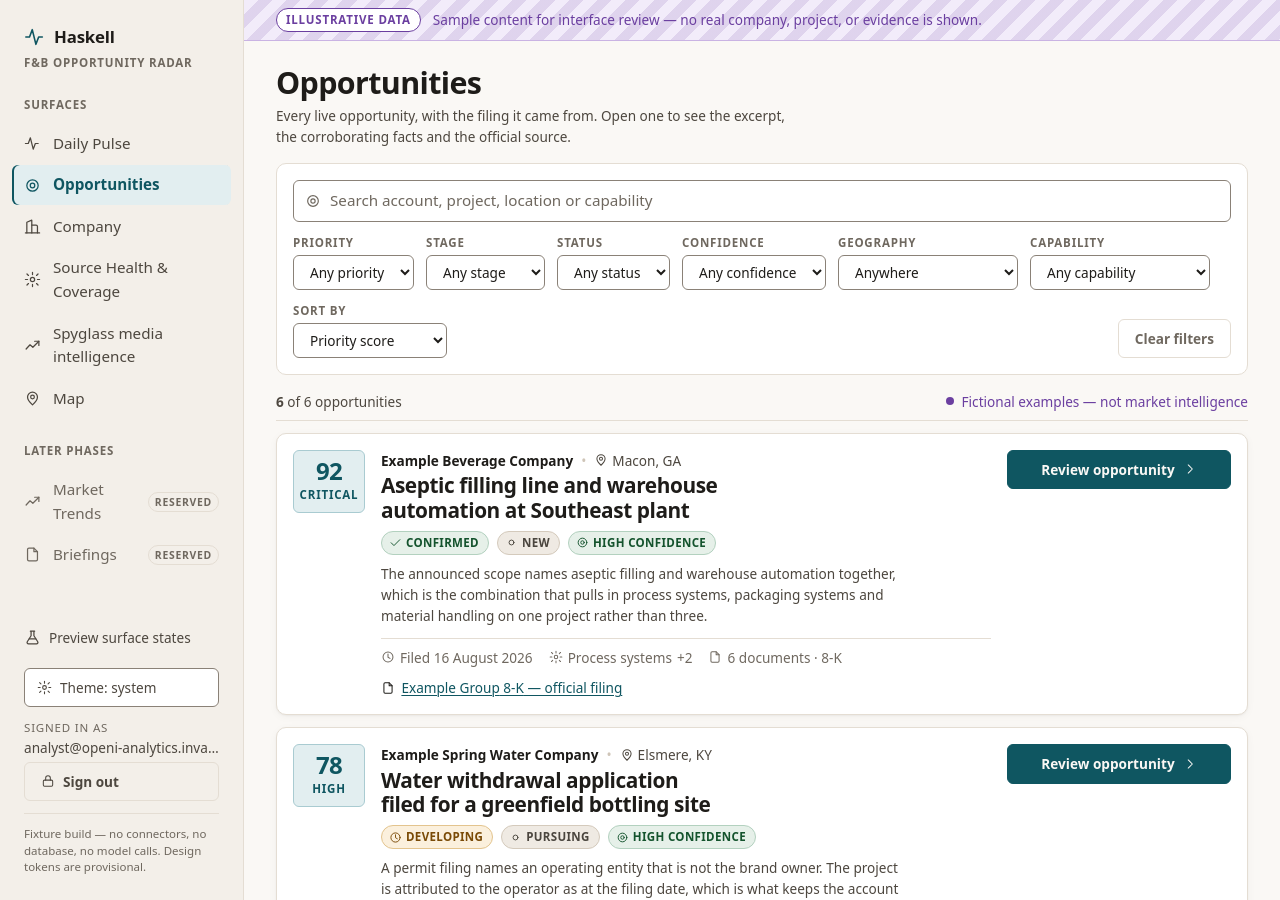
Scenario: search and filters › narrows the list as the user types and updates the results count
The width and height of the screenshot is (1280, 900).
Step 1. Type "dairy" into the search field named "Search opportunities" → (762, 201), box 293,180 -> 1231,222
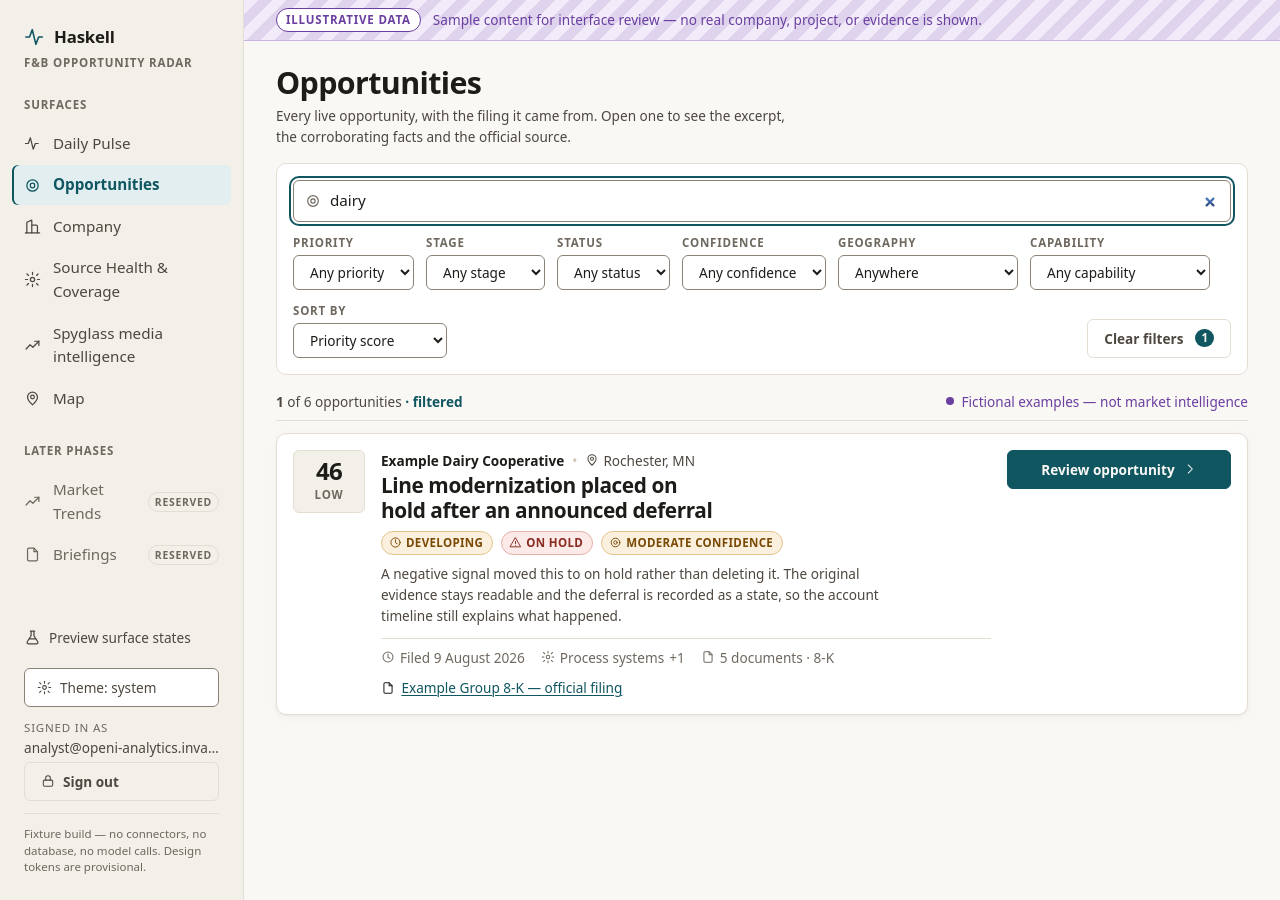
Now the message shows "1 of 6 opportunities", box 276,391 -> 1248,421
Now the text "· filtered" is shown, box 402,392 -> 463,411
